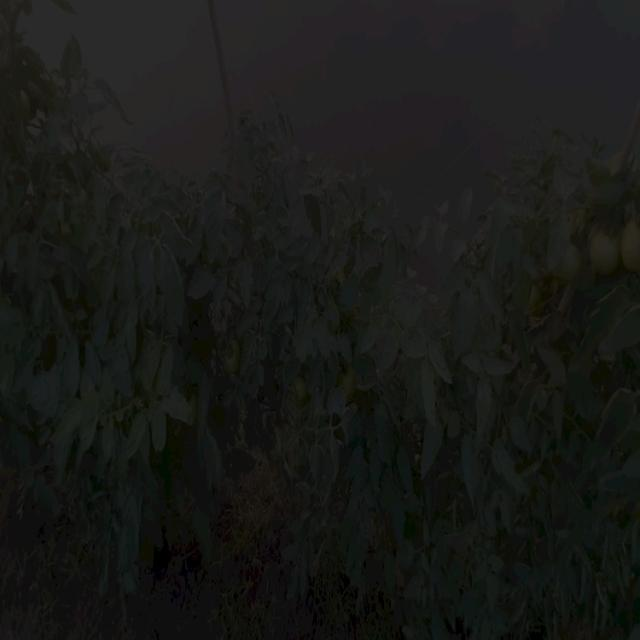tomato: (585, 227, 619, 280), (613, 214, 640, 271), (560, 242, 586, 281), (223, 338, 244, 374), (337, 367, 352, 396), (20, 91, 34, 116), (293, 378, 305, 399)
